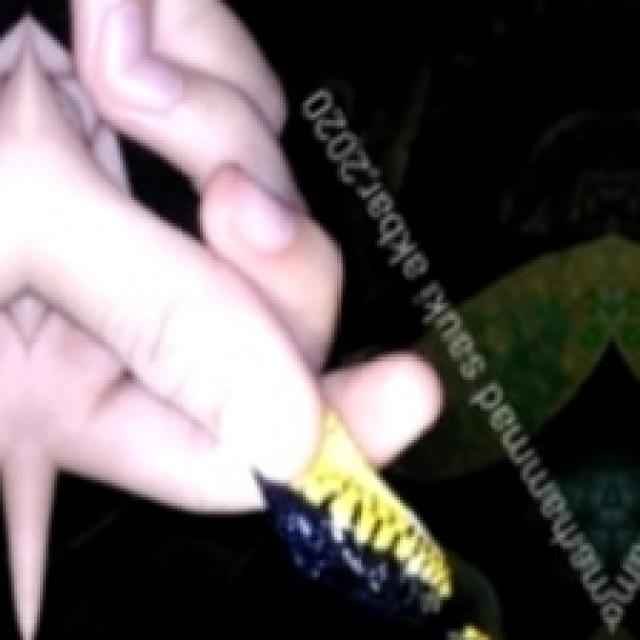mangrove cat snake: (257, 409, 451, 623), (169, 526, 274, 634), (277, 600, 306, 634)
